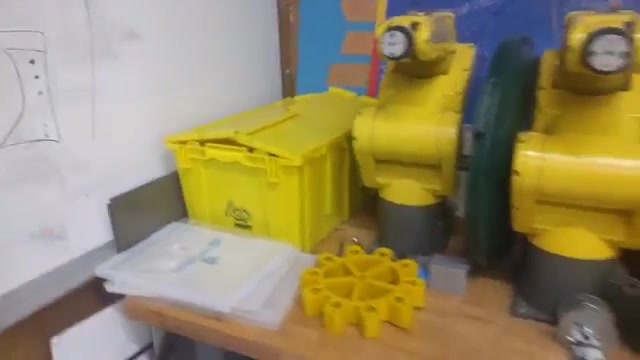gear: (296, 241, 417, 333)
